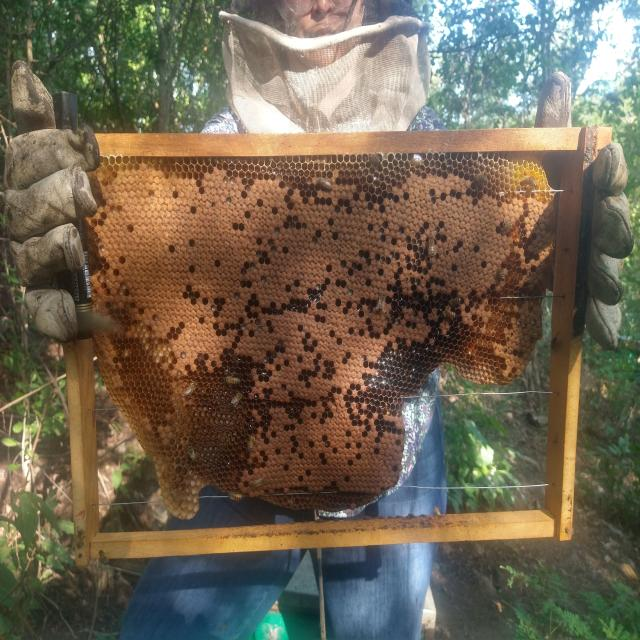cria: (91, 160, 556, 498)
marco: (85, 162, 564, 522)
